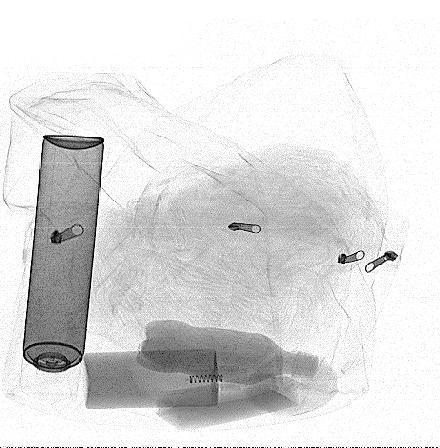Sprayer: (18, 134, 104, 397)
